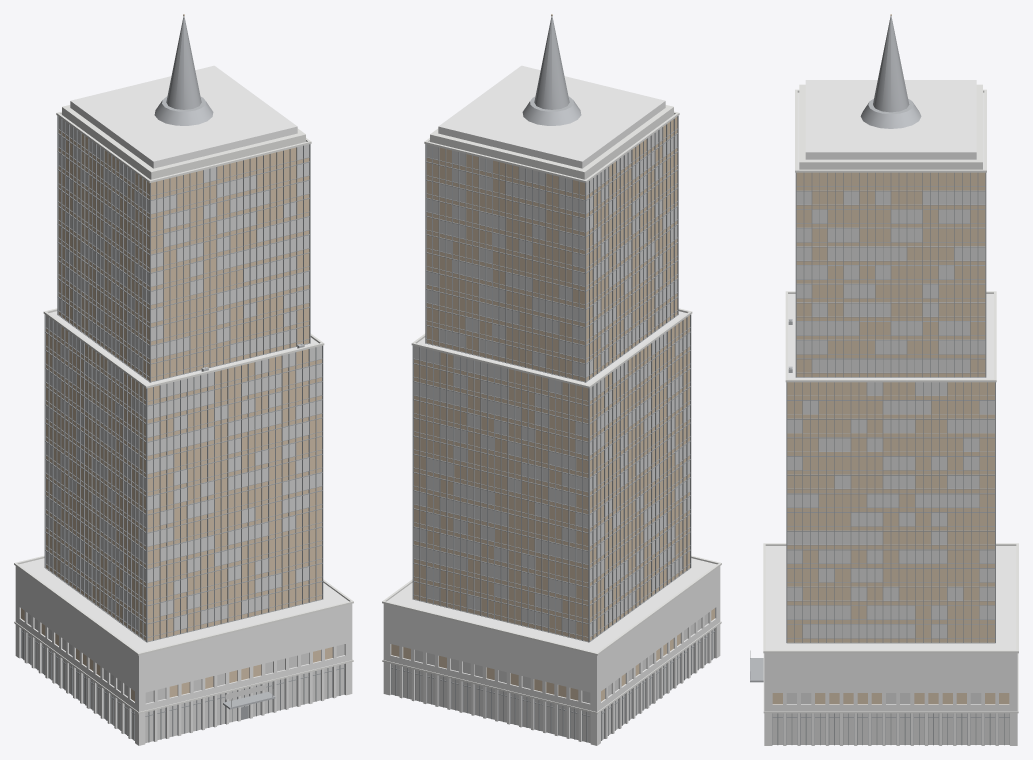
File: tower_hero475.glb
3 renders of one model, left to right at view 1: azimuth 30°, elevation 25°; view 2: azimuth 150°, elevation 25°; view 3: azimuth 270°, elevation 25°, orthographic. The views are drawn at different scales.
Visible parts, largest first — view 1: tower_hero475_Glass, tower_hero475_Frames, tower_hero475_WindowsLit, tower_hero475_Walls2, tower_hero475_Trim, tower_hero475_Roof, tower_hero475_Accent; view 2: tower_hero475_Glass, tower_hero475_Frames, tower_hero475_WindowsLit, tower_hero475_Walls2, tower_hero475_Trim, tower_hero475_Roof, tower_hero475_Accent; view 3: tower_hero475_Glass, tower_hero475_WindowsLit, tower_hero475_Frames, tower_hero475_Walls2, tower_hero475_Roof, tower_hero475_Trim, tower_hero475_Accent.
Part boxes in pixels (x1,y1,x2,y2): tower_hero475_Glass: (21, 130, 332, 701); tower_hero475_Frames: (21, 116, 344, 742); tower_hero475_WindowsLit: (21, 117, 344, 742); tower_hero475_Walls2: (15, 65, 352, 745); tower_hero475_Trim: (14, 105, 353, 714); tower_hero475_Roof: (19, 141, 348, 652); tower_hero475_Accent: (154, 16, 275, 709); tower_hero475_Glass: (391, 117, 714, 701); tower_hero475_Frames: (391, 116, 714, 742); tower_hero475_WindowsLit: (391, 128, 714, 742); tower_hero475_Walls2: (383, 65, 720, 745); tower_hero475_Trim: (382, 105, 721, 714); tower_hero475_Roof: (387, 141, 716, 652); tower_hero475_Accent: (522, 16, 581, 125); tower_hero475_Glass: (772, 172, 1009, 704); tower_hero475_WindowsLit: (772, 191, 1009, 744); tower_hero475_Frames: (772, 172, 1009, 745); tower_hero475_Walls2: (764, 80, 1017, 745); tower_hero475_Roof: (765, 92, 1016, 650); tower_hero475_Trim: (763, 84, 1018, 713); tower_hero475_Accent: (750, 16, 921, 682).
Bounding box in the file's own units: 161 × 473 × 170.
